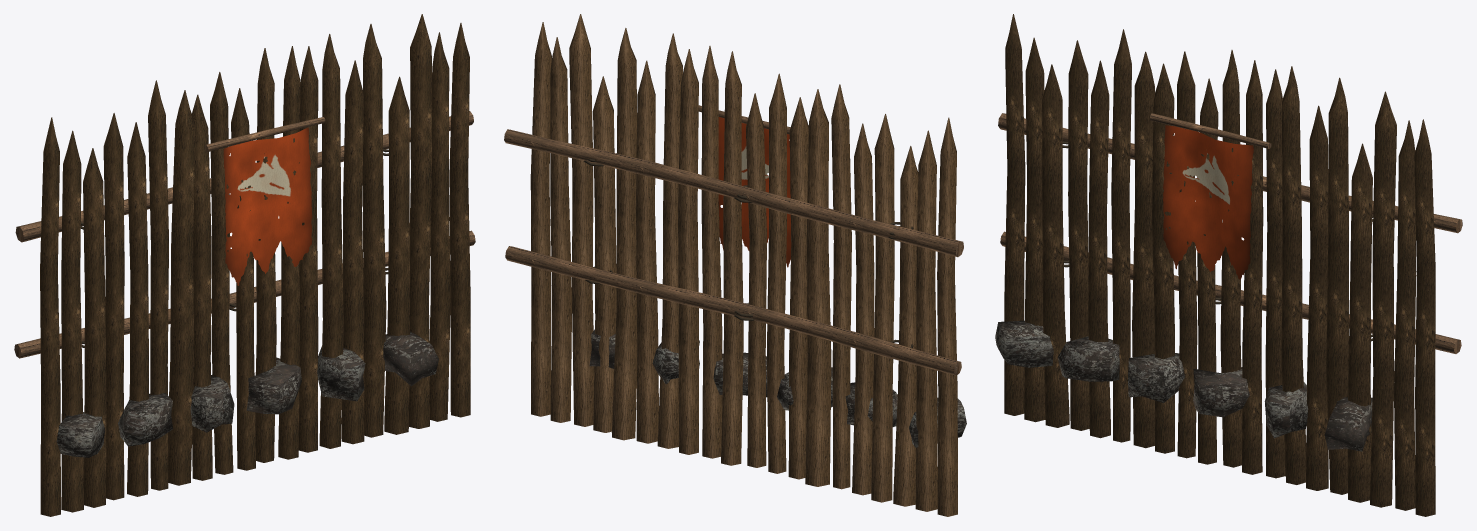
The model's file is SM_Bld_Red_FenceB.gltf.
3 views of the same model, side by side, from view 1: azimuth 30°, elevation 25°; view 2: azimuth 150°, elevation 25°; view 3: azimuth 330°, elevation 25° (orthographic).
Parts seen in each view (by area): view 1: SM_Bld_Red_FenceB; view 2: SM_Bld_Red_FenceB; view 3: SM_Bld_Red_FenceB.
Boxes of the visible parts, x1,y1,x2,y2 form: SM_Bld_Red_FenceB: [14, 14, 475, 516]; SM_Bld_Red_FenceB: [504, 14, 966, 516]; SM_Bld_Red_FenceB: [995, 14, 1462, 516].
Size of the model in its own units: 4.2 by 3.66 by 0.6679.
5 materials, 5 textured.
